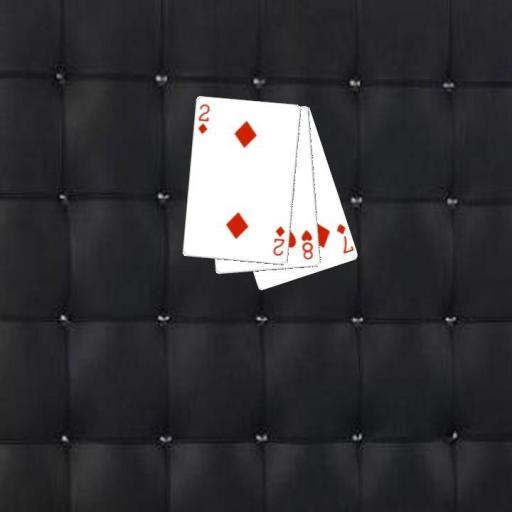2D: (270, 224, 287, 258), (195, 101, 211, 135)
7D: (334, 221, 354, 256)
8H: (298, 227, 315, 261)
